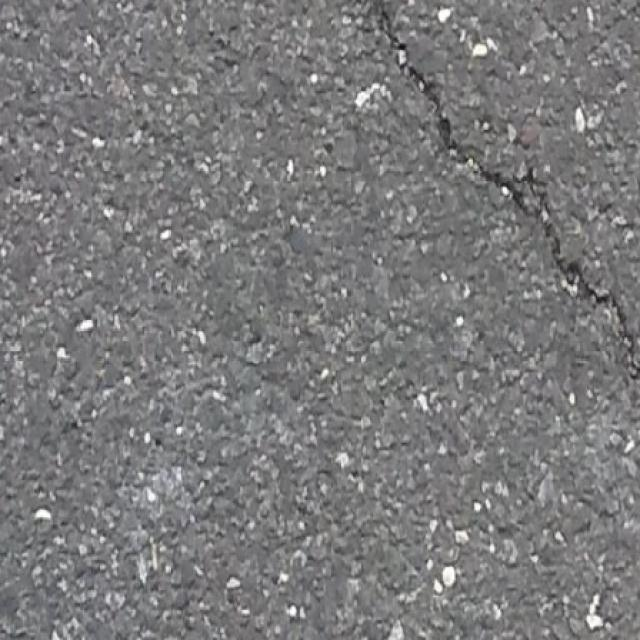Diagonal Crack: (367, 0, 640, 393)
